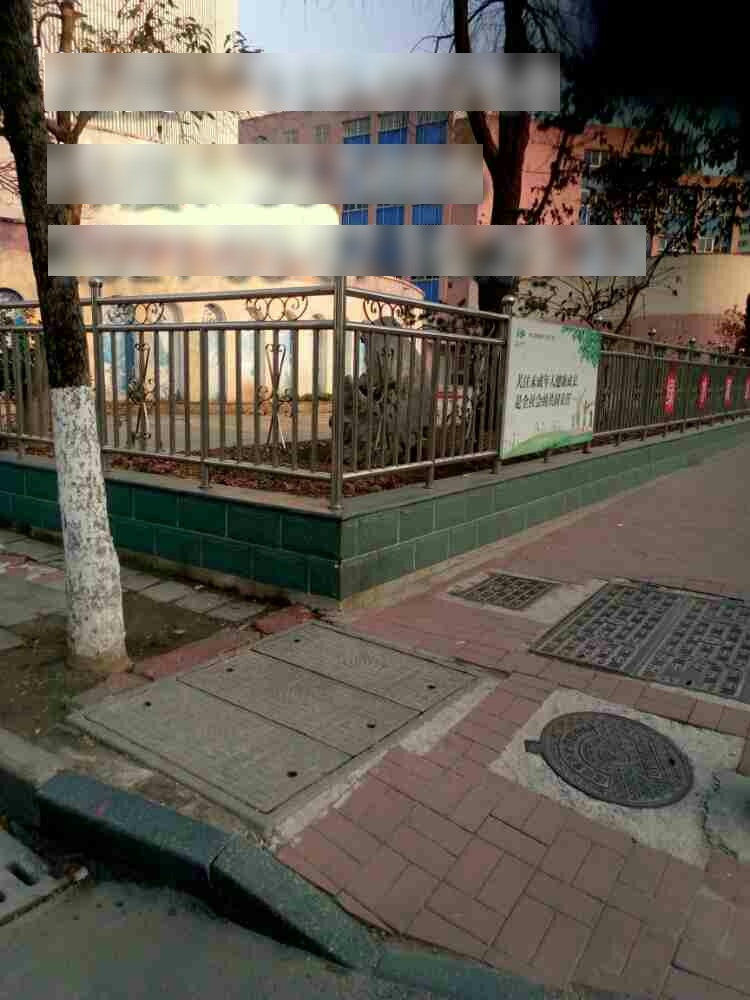good: (66, 619, 486, 832), (526, 576, 750, 713), (523, 710, 694, 808), (446, 569, 566, 613)
